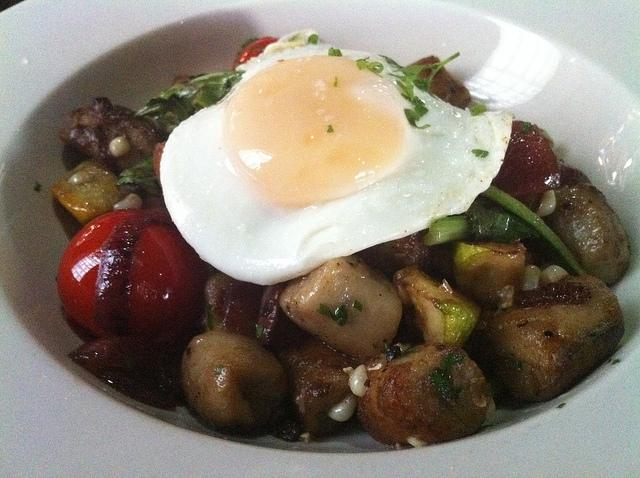tomato: (58, 210, 173, 338), (232, 36, 280, 70)
